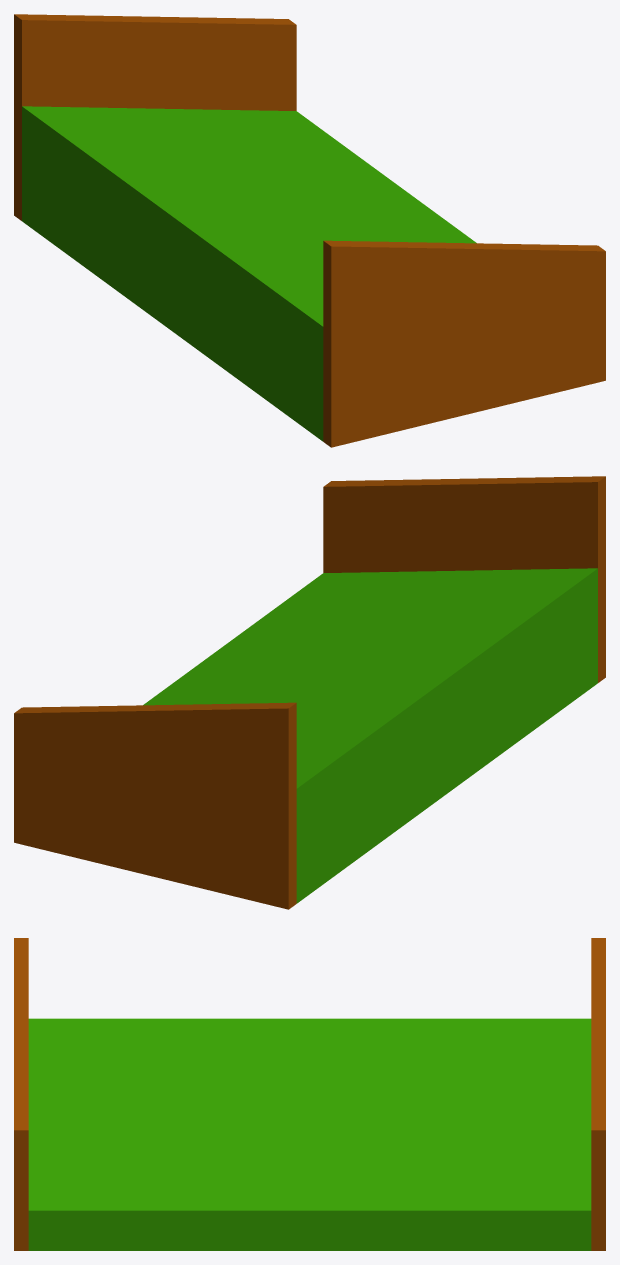
The model's file is slope_wide.fbx.
3 views of the same model, one above another, from view 1: azimuth 30°, elevation 25°; view 2: azimuth 150°, elevation 25°; view 3: azimuth 270°, elevation 25° (orthographic). The views are drawn at different scales.
Visible parts, largest first — view 1: Plane; view 2: Plane; view 3: Plane.
Part boxes in pixels (left/top/right/bottom): Plane: left=14, top=14, right=605, bottom=447; Plane: left=14, top=476, right=605, bottom=909; Plane: left=14, top=938, right=605, bottom=1250.
Bounding box in the file's own units: 200 × 140 × 400.
